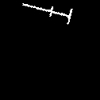double_crochet: (23, 4, 71, 23)
